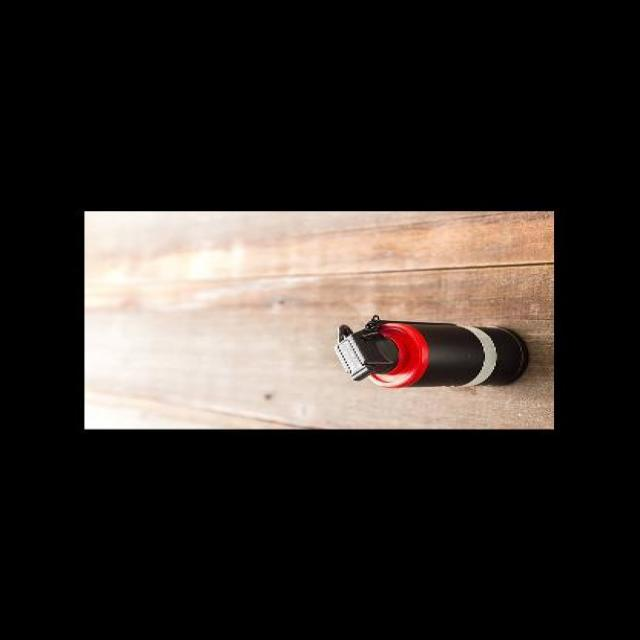grenade: (312, 317, 530, 393)
